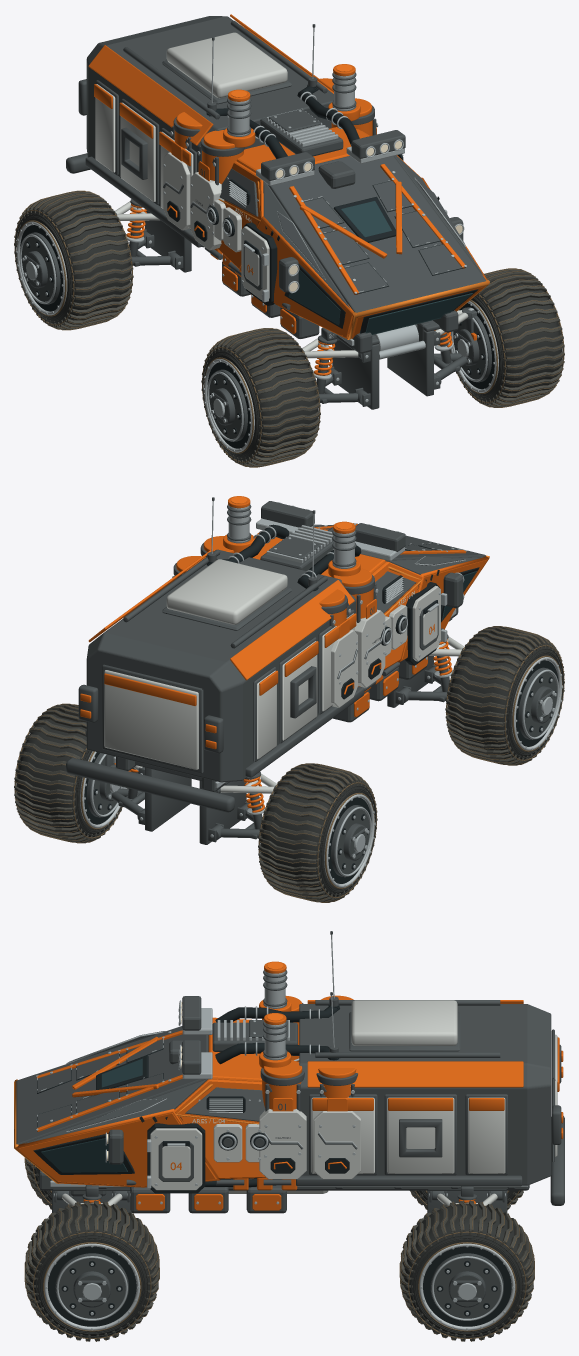
File: ares-light.glb
3 views of the same model, one above another, from view 1: azimuth 30°, elevation 25°; view 2: azimuth 150°, elevation 25°; view 3: azimuth 270°, elevation 25° (orthographic).
Parts seen in each view (by area): view 1: body, wheel_3, wheel_1, wheel_0, susp_1_lower, susp_3_lower, susp_1_upper, susp_0_lower; view 2: body, wheel_3, wheel_1, wheel_2, susp_3_lower, susp_1_lower, susp_3_upper, susp_2_lower; view 3: body, wheel_0, wheel_2, wheel_1.
Boxes of the visible parts, box(x1,y1,x2,y2) form: body: box(66, 14, 489, 409); wheel_3: box(14, 190, 133, 330); wheel_1: box(201, 328, 320, 467); wheel_0: box(447, 268, 564, 407); susp_1_lower: box(318, 368, 367, 404); susp_3_lower: box(131, 231, 179, 267); susp_1_upper: box(302, 338, 362, 359); susp_0_lower: box(434, 353, 467, 384); body: box(66, 496, 489, 844); wheel_3: box(258, 763, 377, 902); wheel_1: box(445, 626, 564, 765); wheel_2: box(14, 703, 128, 843); susp_3_lower: box(211, 803, 259, 839); susp_1_lower: box(399, 666, 447, 702); susp_3_upper: box(216, 773, 278, 793); susp_2_lower: box(111, 788, 144, 819); body: box(14, 931, 564, 1213); wheel_0: box(24, 1200, 159, 1341); wheel_2: box(399, 1200, 534, 1341); wheel_1: box(24, 1157, 51, 1209).
Size of the model in its own units: 5.9 by 5.41 by 8.52.
